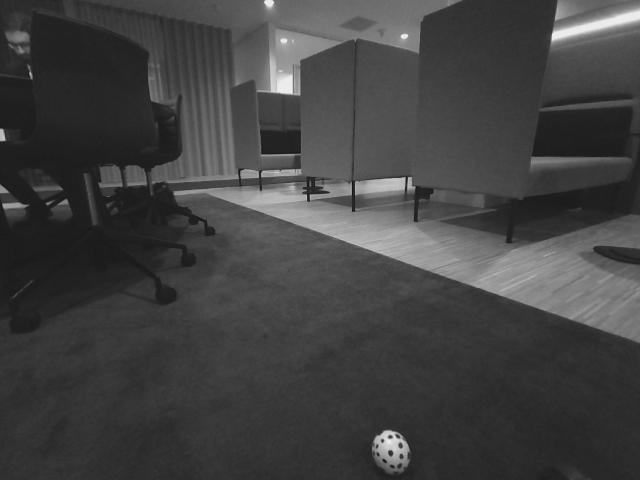dogtoy: (362, 420, 420, 480)
